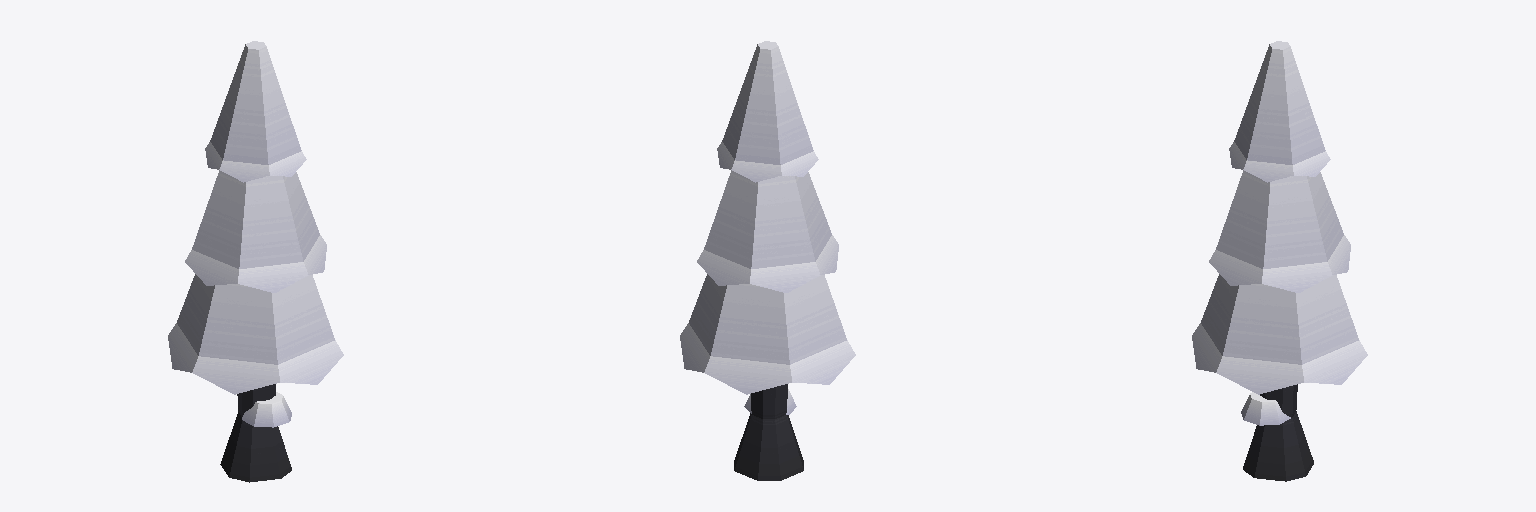
The picture shows the model from 3 angles: view 1: azimuth 30°, elevation 25°; view 2: azimuth 150°, elevation 25°; view 3: azimuth 270°, elevation 25°; orthographic projection.
Visible parts, largest first — view 1: tree.064; view 2: tree.064; view 3: tree.064.
Part boxes in pixels (bbox=[...]): tree.064: bbox=[168, 41, 343, 482]; tree.064: bbox=[680, 41, 855, 480]; tree.064: bbox=[1192, 41, 1367, 481].
Size of the model in its own units: 1.31 by 3.47 by 1.32.
Materials: 1 (1 with a texture image).